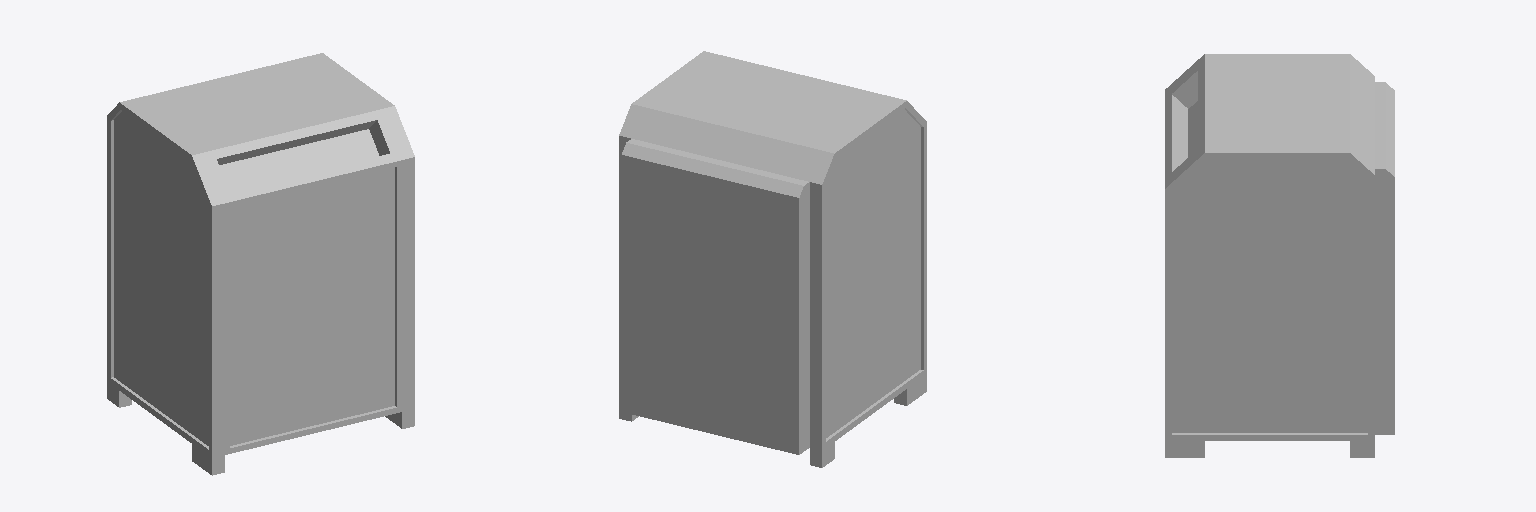
Rendered from Postbox.obj.
The picture shows the model from 3 angles: view 1: azimuth 30°, elevation 25°; view 2: azimuth 150°, elevation 25°; view 3: azimuth 270°, elevation 25°; orthographic projection.
Visible parts, largest first — view 1: Postbox_Cube.022; view 2: Postbox_Cube.022; view 3: Postbox_Cube.022.
Boxes of the visible parts, x1=… form: Postbox_Cube.022: x1=107, y1=53, x2=414, y2=475; Postbox_Cube.022: x1=619, y1=51, x2=926, y2=467; Postbox_Cube.022: x1=1165, y1=54, x2=1394, y2=457.
Bounding box in the file's own units: 0.3198 × 0.4595 × 0.314.